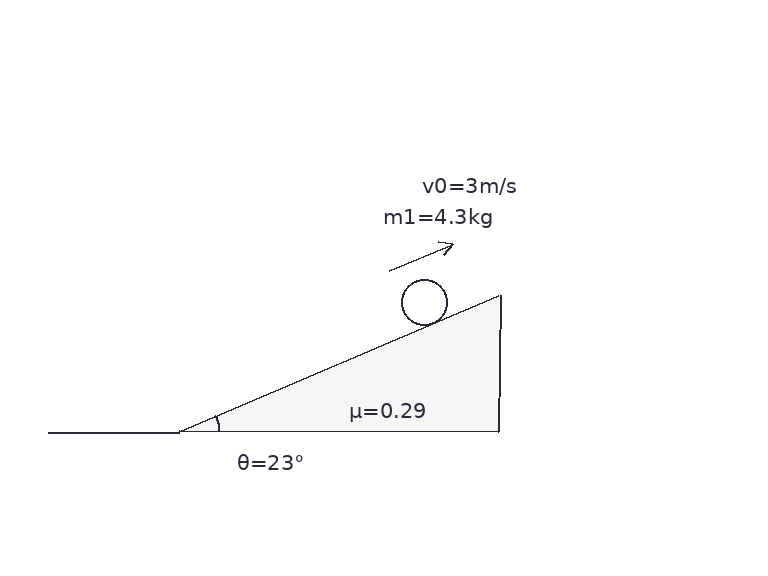ball: (399, 277, 449, 327)
ramp: (177, 293, 500, 433)
